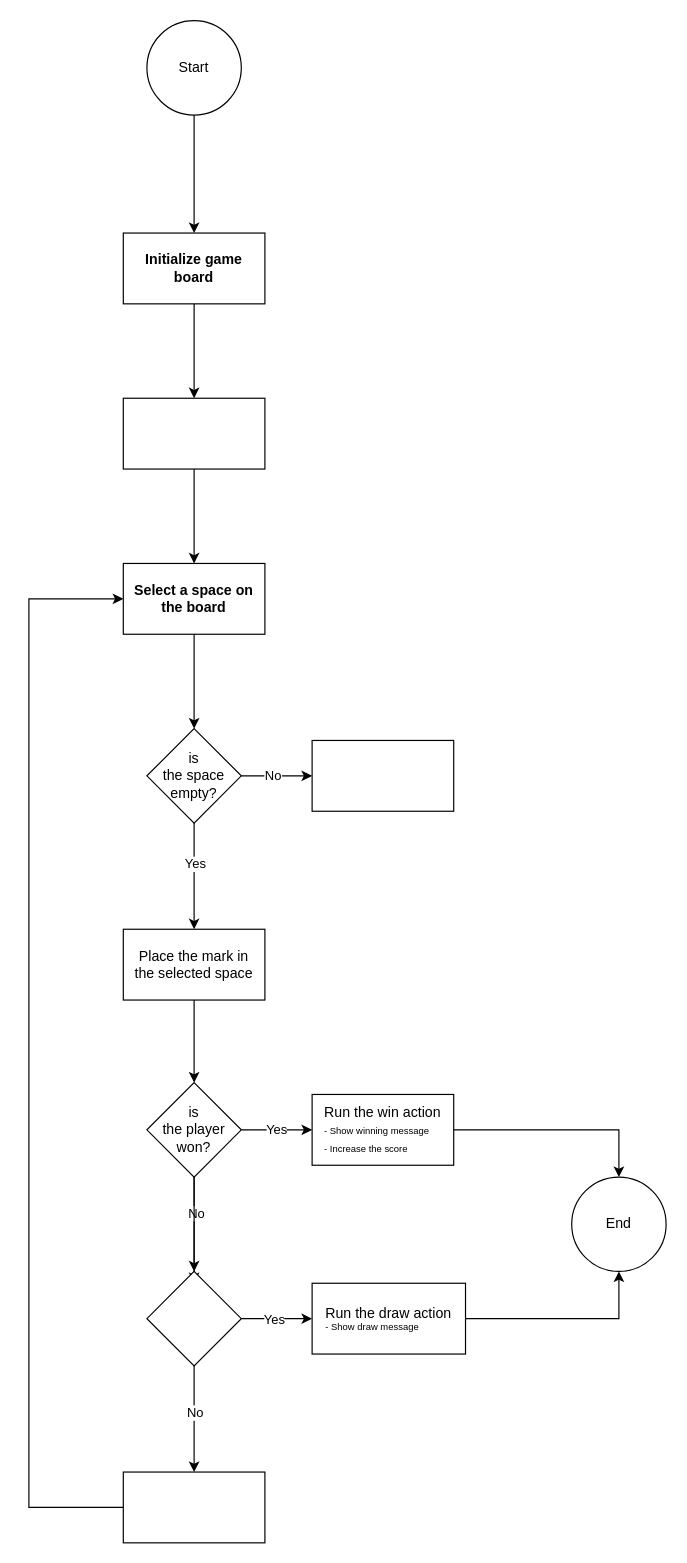
Image size: 687x1563. Some labels were removed from this diagram. Each missing label, with the centre of its shape:
Do Nothing: pixel 382 775
is it draw?: pixel 193 1318
Set current player to 'X': pixel 193 433
Switch the current player: pixel 193 1507
